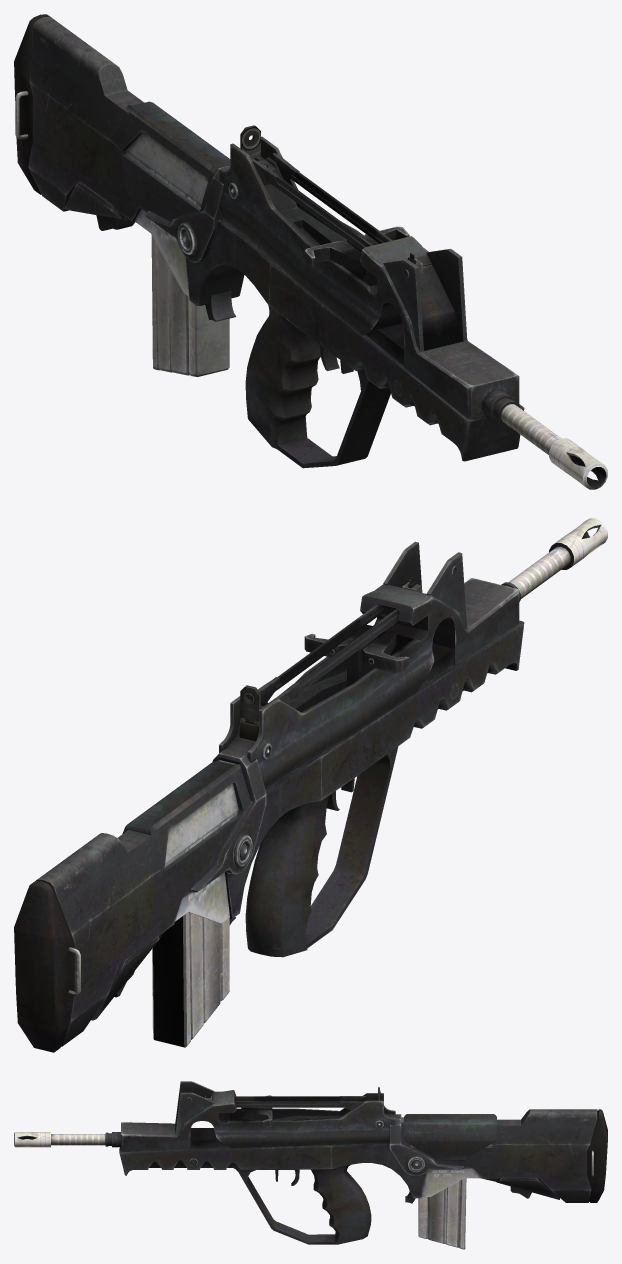
The model's file is Famas.fbx.
The picture shows the model from 3 angles, top to bottom: view 1: azimuth 30°, elevation 25°; view 2: azimuth 150°, elevation 25°; view 3: azimuth 270°, elevation 25°; orthographic projection. The views are drawn at different scales.
Visible parts, largest first — view 1: Mesh_0003, mag, bolt; view 2: Mesh_0003, mag, bolt; view 3: Mesh_0003, mag, bolt.
Part boxes in pixels (x1,y1,x2,y2): Mesh_0003: (14, 14, 607, 489); mag: (151, 169, 229, 376); bolt: (304, 226, 409, 286); Mesh_0003: (14, 518, 607, 1052); mag: (152, 817, 229, 1047); bolt: (304, 625, 409, 686); Mesh_0003: (14, 1081, 607, 1244); mag: (418, 1178, 466, 1249); bolt: (241, 1095, 272, 1127).
Bounding box in the file's own units: 7.63 × 22.37 × 76.07.
Materials: 3 (3 with a texture image).
